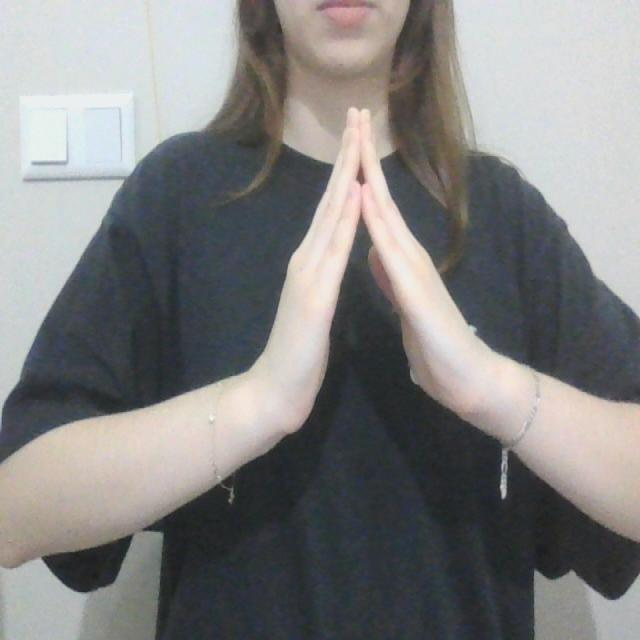Ev: (249, 97, 485, 440)
